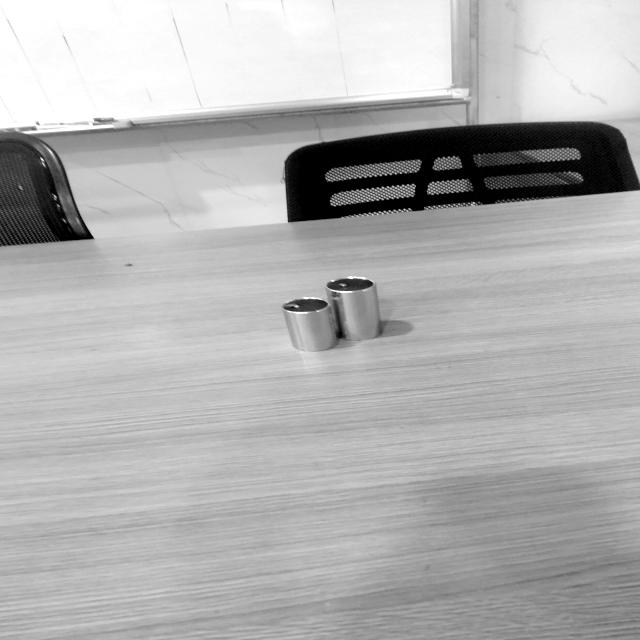Co_Lon: (325, 273, 385, 345)
Co_Nho: (281, 292, 340, 358)
